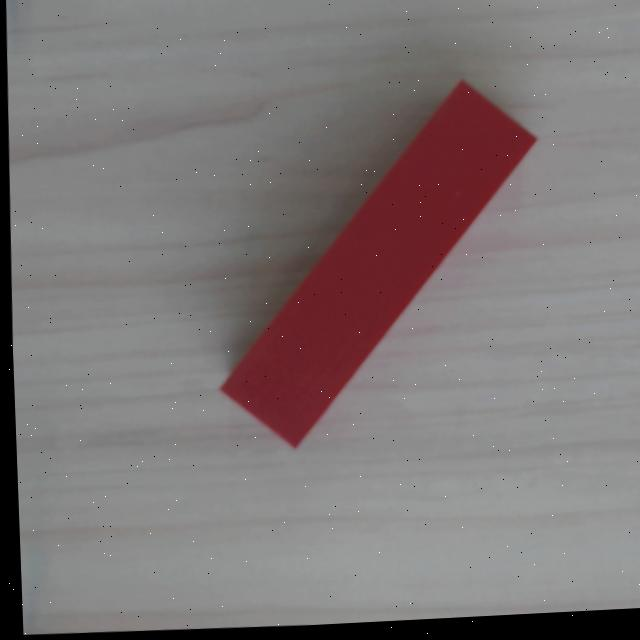Balok-Merah-1002525: (219, 79, 538, 448)
